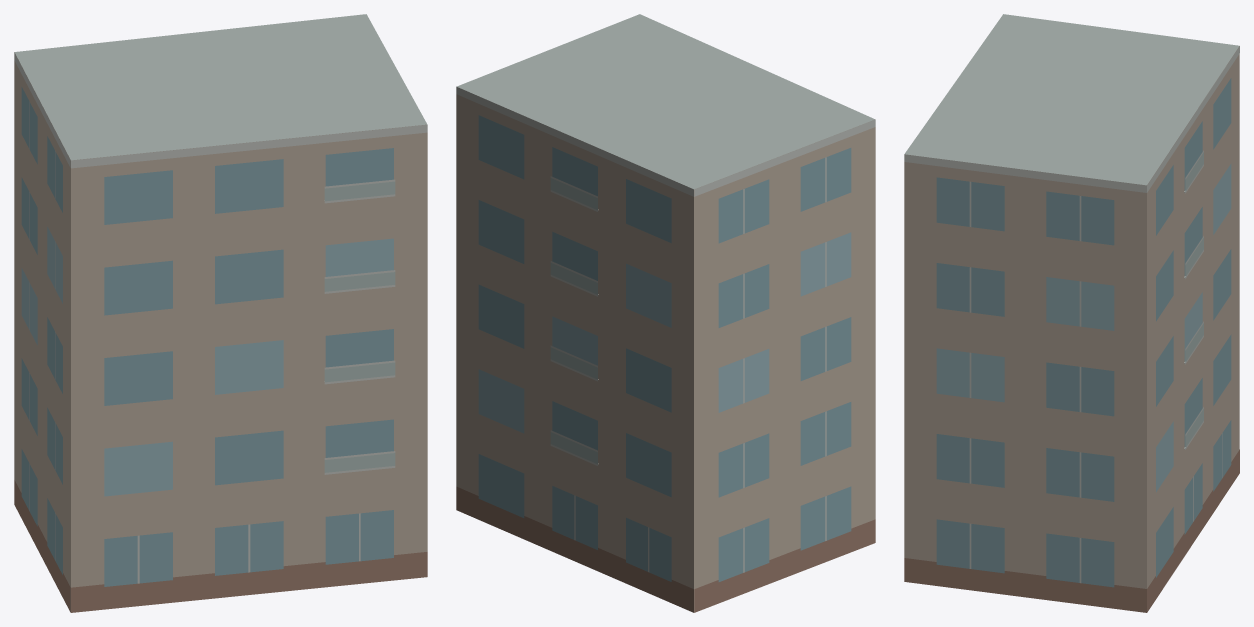
Rendered from survey-upis-32817891.glb.
3 renders of one model, left to right at view 1: azimuth 30°, elevation 25°; view 2: azimuth 150°, elevation 25°; view 3: azimuth 270°, elevation 25°, orthographic. The views are drawn at different scales.
Parts seen in each view (by area): view 1: survey-upis-32817891.tmp; view 2: survey-upis-32817891.tmp; view 3: survey-upis-32817891.tmp.
Boxes of the visible parts, bbox=[...] form: survey-upis-32817891.tmp: bbox=[14, 14, 427, 612]; survey-upis-32817891.tmp: bbox=[456, 14, 875, 612]; survey-upis-32817891.tmp: bbox=[904, 14, 1239, 612].
Size of the model in its own units: 11.79 by 13.7 by 9.76.
